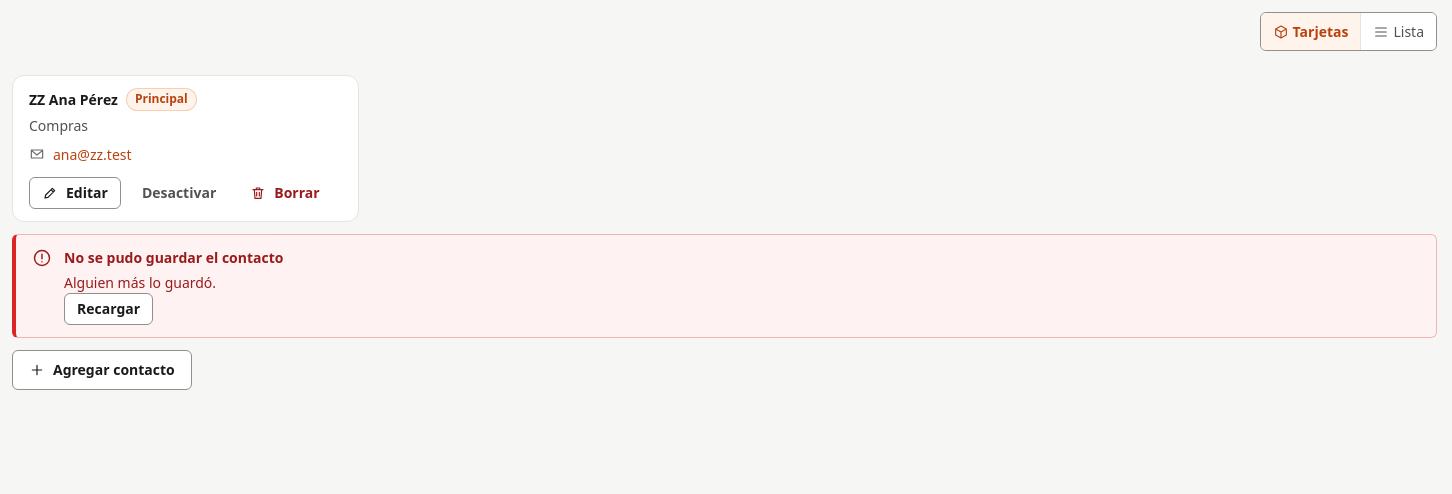
Test: EditorContactos · conflictos y permisos › un conflicto ofrece recargar y NO cierra el formulario
Click the button "Editar" at (75, 193), box [29,177,121,209]
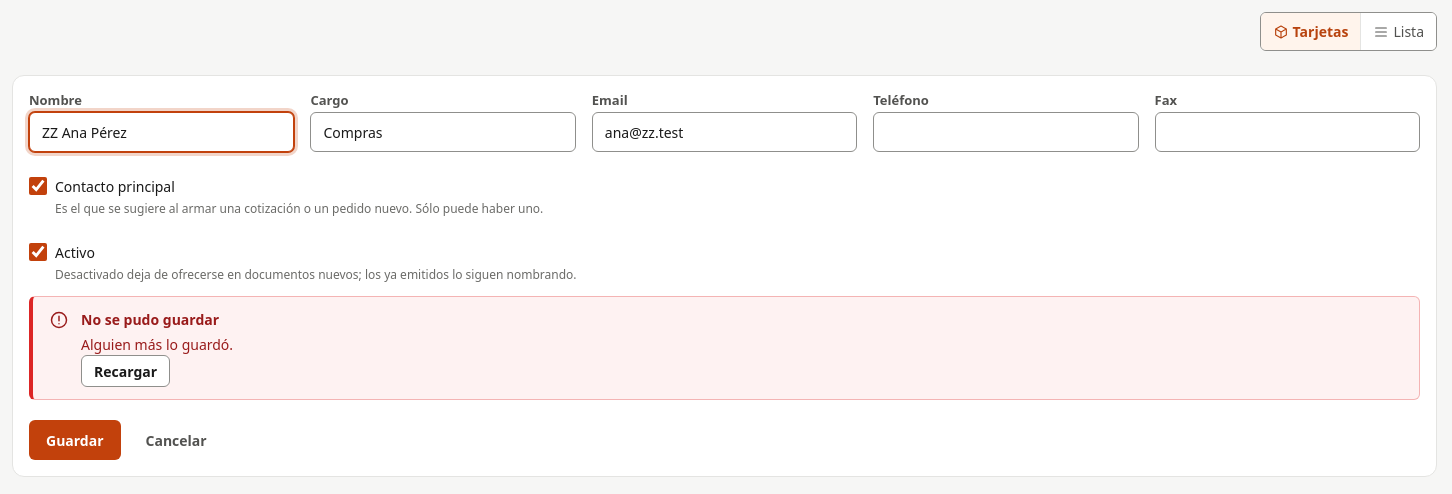
Expected: the message shows "Alguien más lo guardó.", [81,335,233,354]
Expected: the field labelled "Nombre" holds "ZZ Ana Pérez", [29,112,294,152]
